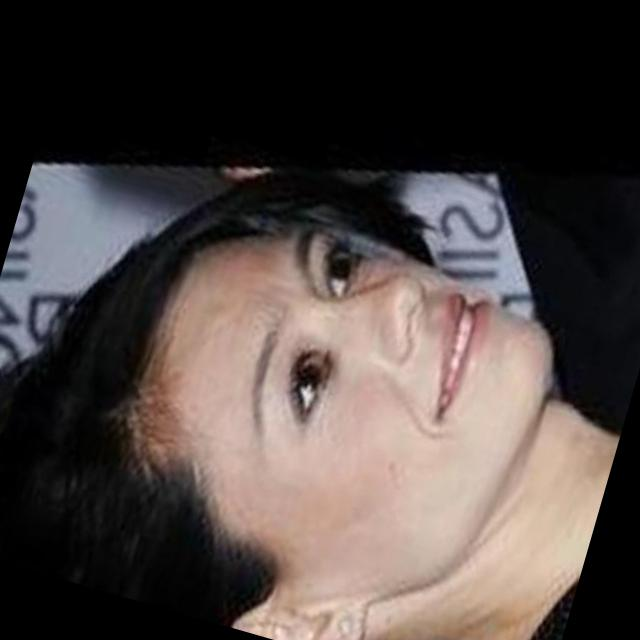bareface: (2, 170, 594, 640)
